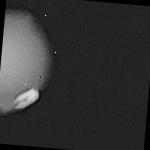colony: (0, 0, 65, 128)
